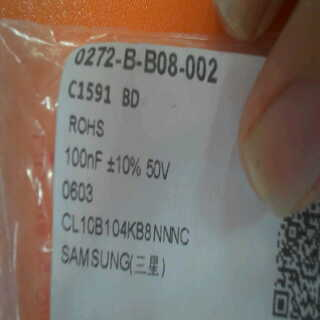100nF: (58, 143, 104, 179)
